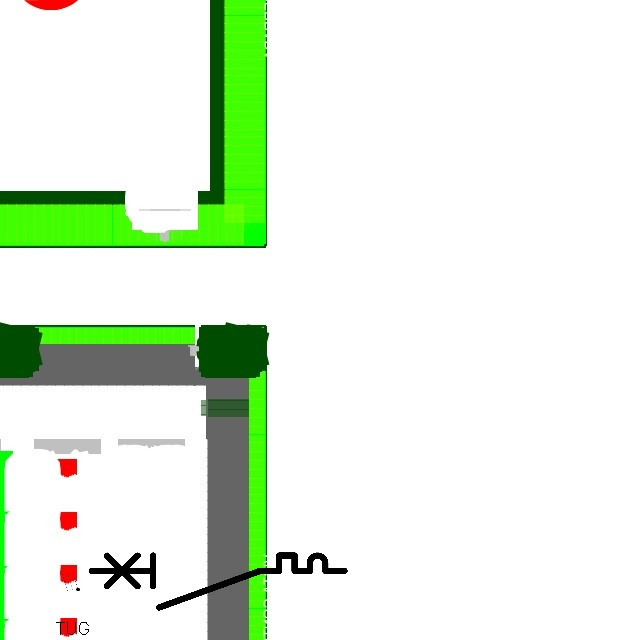interruptor_termomagnetico: (85, 549, 351, 614)
